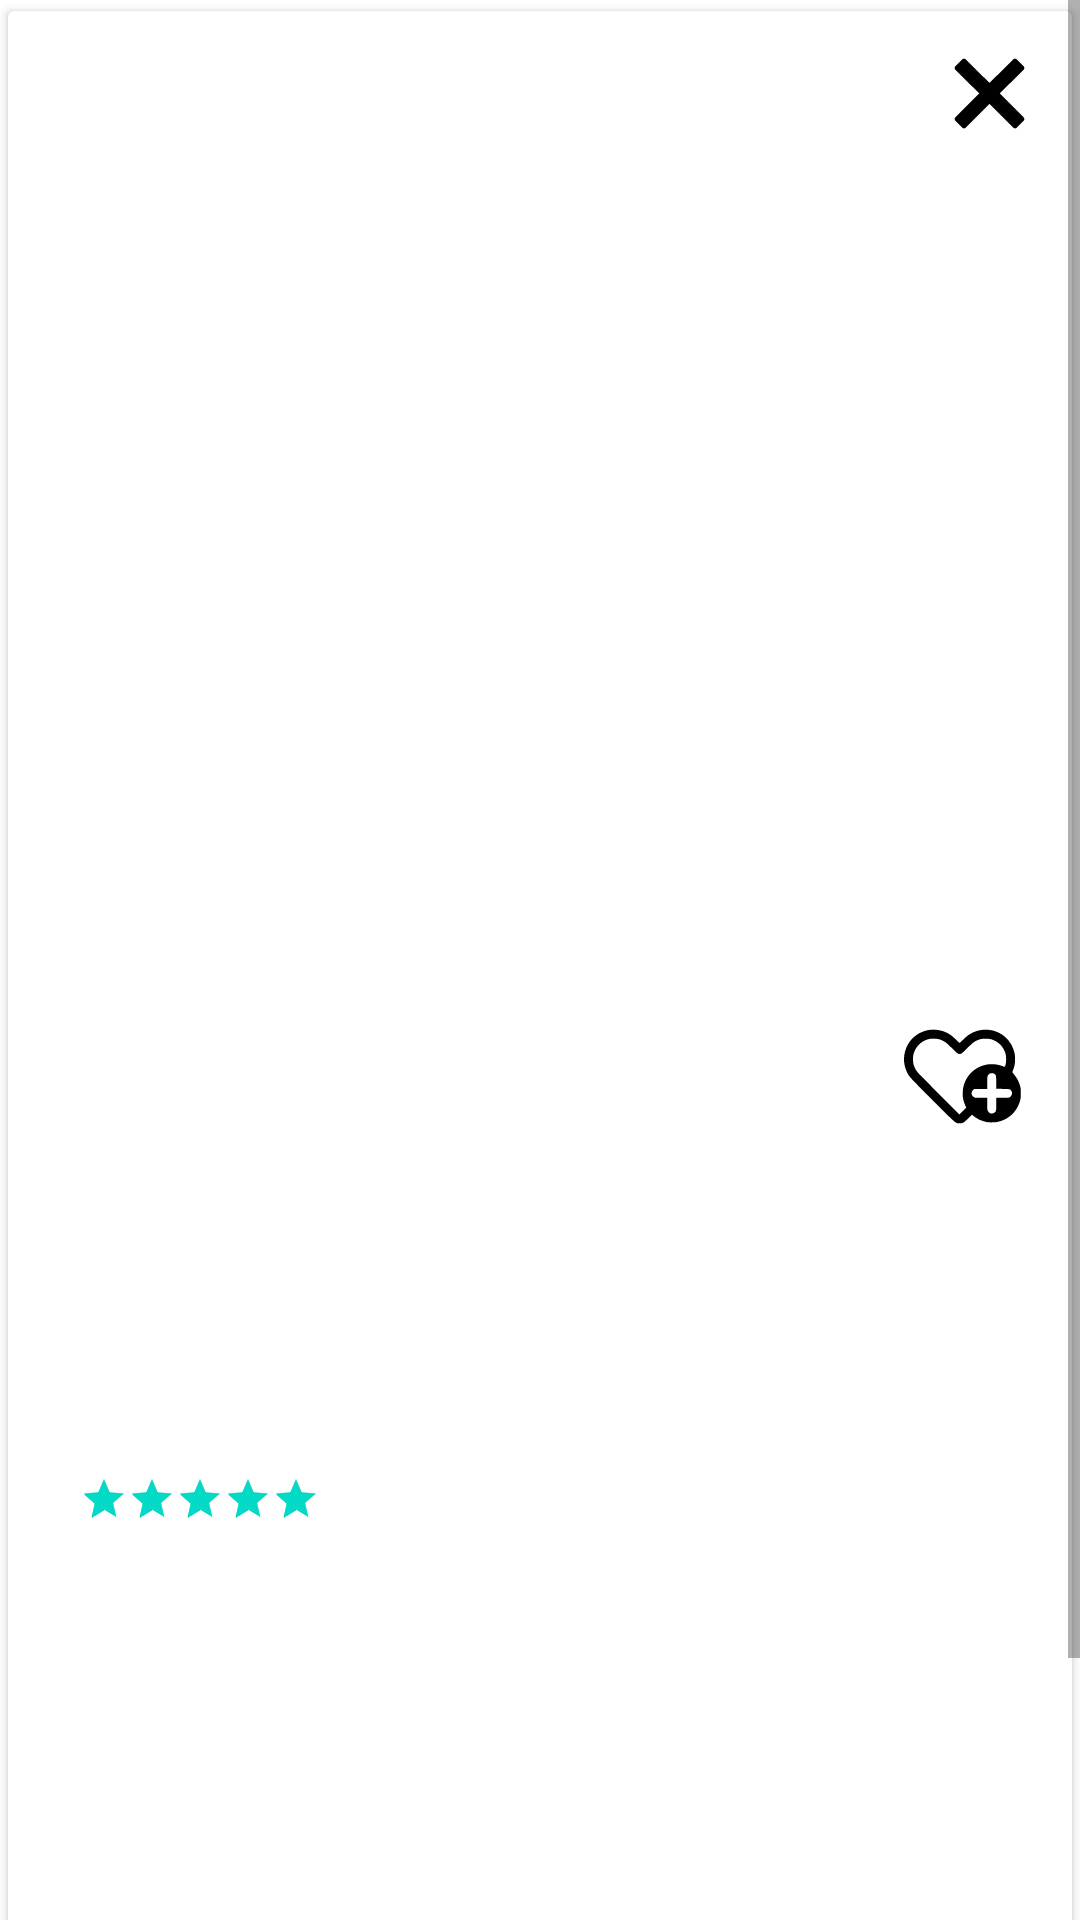

Point at icon controls on the screen. Image size 1080*1920, points as [x,y].
Add to favorites: [962,1076]
close dialog: [989,93]
